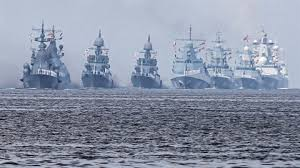tau_muctieu: (21, 30, 70, 90), (174, 33, 211, 91), (82, 31, 116, 91), (132, 39, 160, 90), (209, 37, 232, 91)
